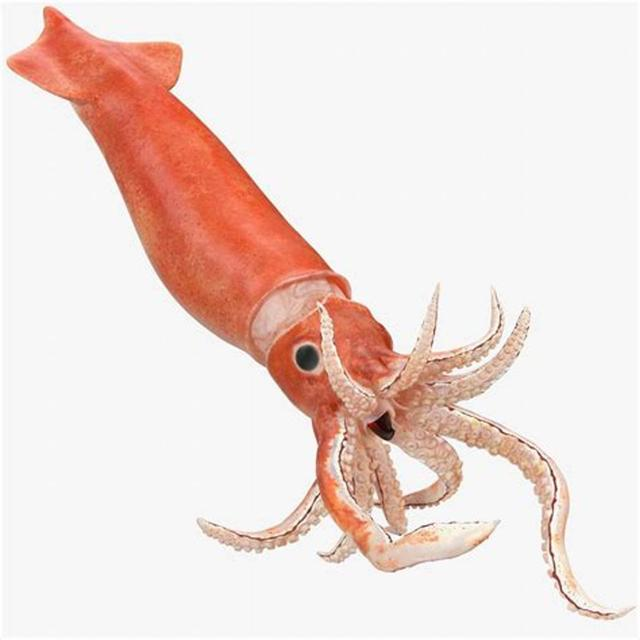SQUID: (0, 0, 592, 640)
